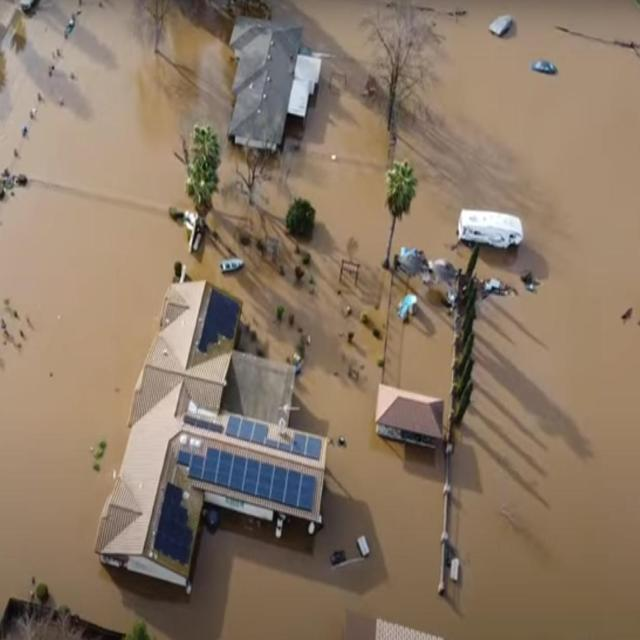flood: (0, 0, 640, 639), (386, 277, 453, 406)
house: (90, 276, 332, 602), (233, 15, 307, 154), (373, 382, 443, 451)
